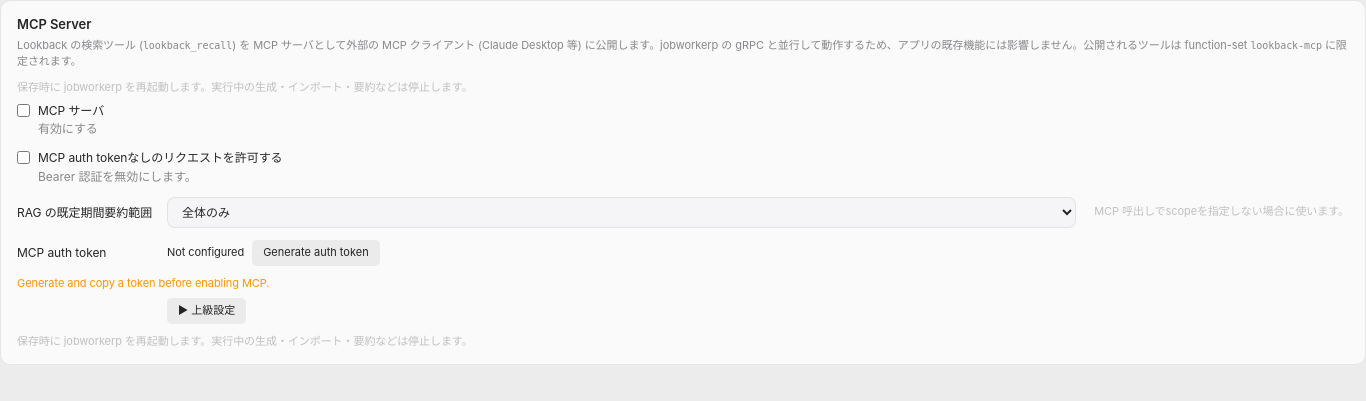
Test: McpServerCard › keeps the token unconfigured and reports an error when generation fails
Expected: the text "Not configured" is shown, [167,245,244,261]
Click the button "Generate auth token".
click(316, 253)  # box [252,240,380,266]
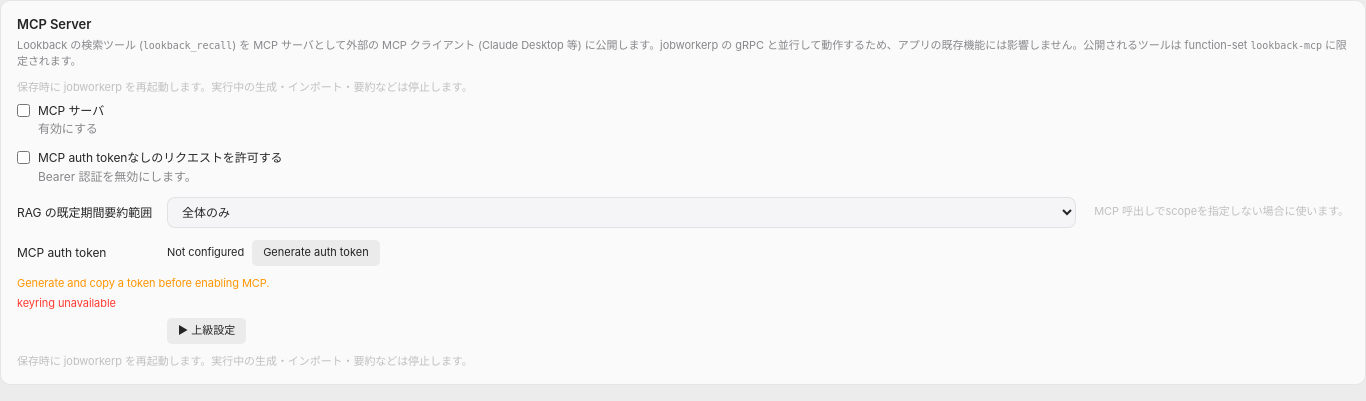
Expected: the text "Not configured" is shown, [167,245,244,261]
Now the text "keyring unavailable" is shown, box [17,296,116,310]
